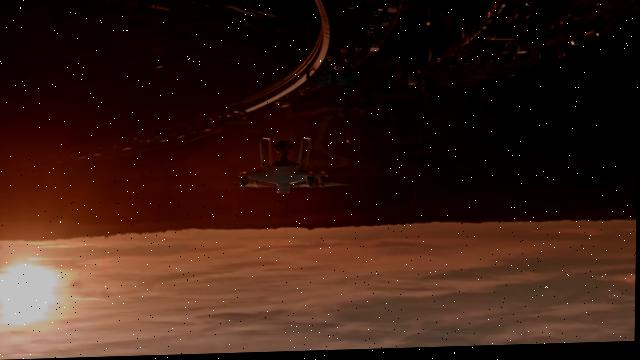drone: (236, 135, 356, 199)
